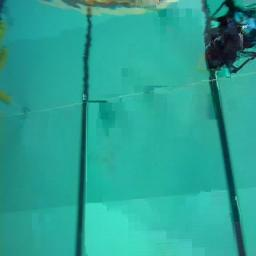Full: (203, 15, 256, 73)
